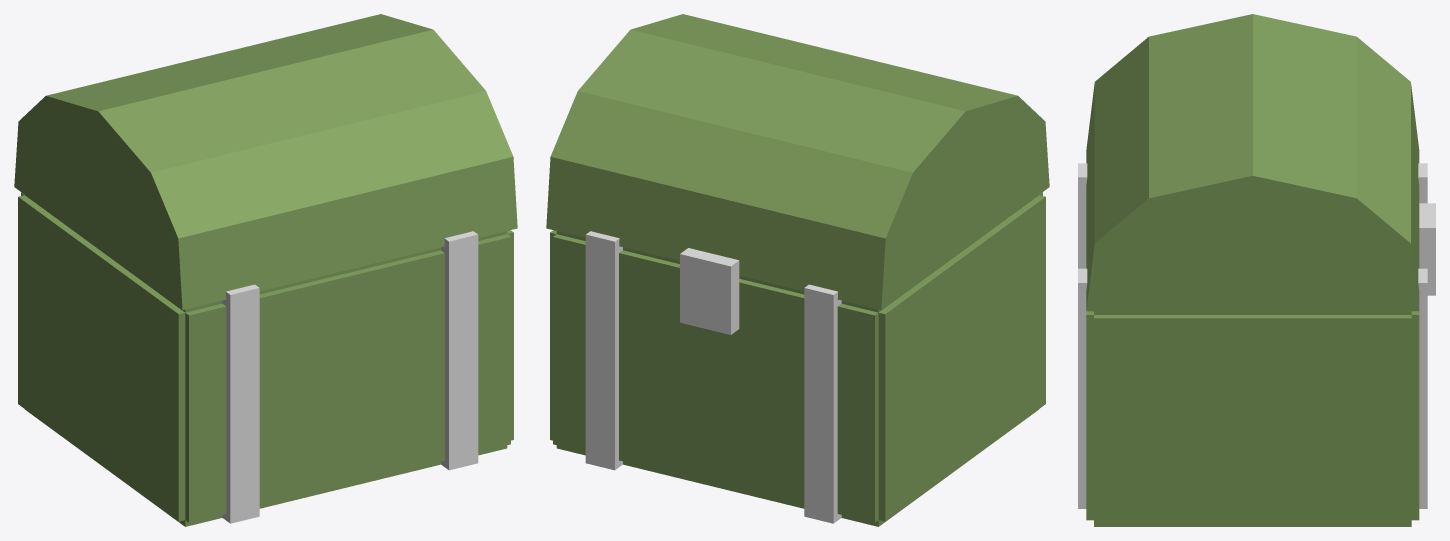
The model's file is cactus_chest_v0.glb.
3 views of the same model, side by side, from view 1: azimuth 30°, elevation 25°; view 2: azimuth 150°, elevation 25°; view 3: azimuth 270°, elevation 25° (orthographic).
Parts seen in each view (by area): view 1: cactus_chest_v0; view 2: cactus_chest_v0; view 3: cactus_chest_v0.
Boxes of the visible parts, bbox=[...] form: cactus_chest_v0: bbox=[14, 14, 517, 526]; cactus_chest_v0: bbox=[546, 14, 1049, 526]; cactus_chest_v0: bbox=[1078, 14, 1435, 526].
Size of the model in its own units: 0.92 by 0.94 by 0.86.
